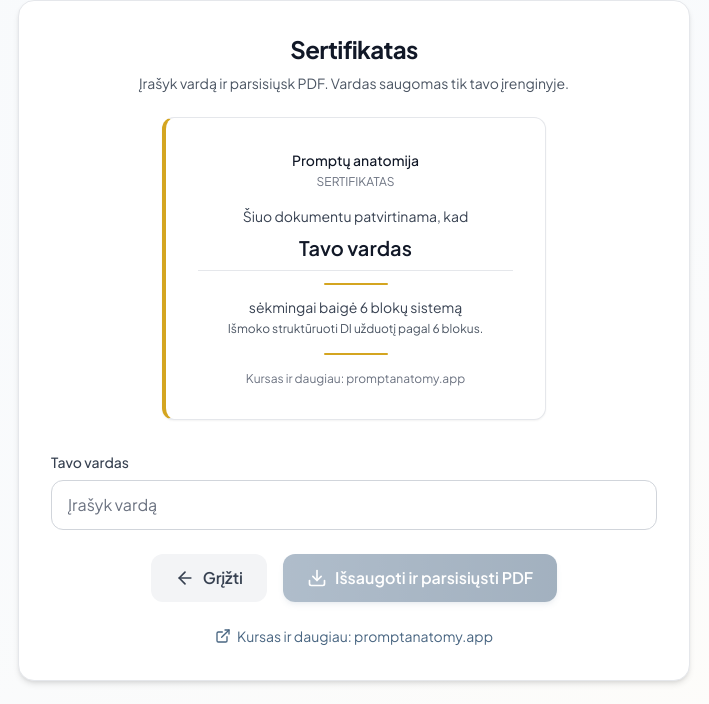
CertificateScreen › download button becomes enabled after entering a name
Type "Jonas" into the field labelled "Tavo vardas" at (354, 505), box [51, 480, 657, 530]
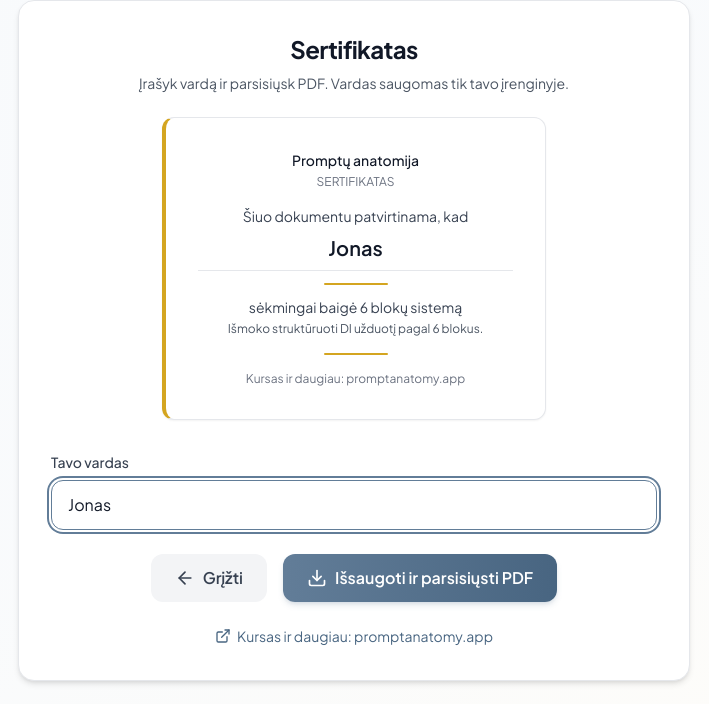
Now the button "Išsaugoti ir parsisiųsti PDF" is enabled, box [283, 554, 557, 602]
